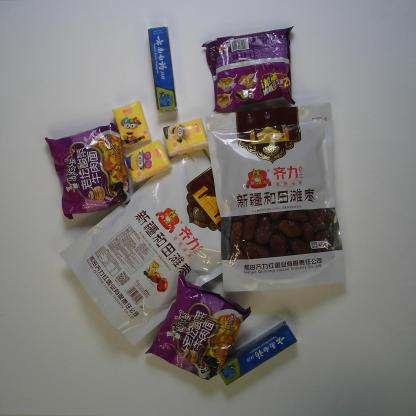Dried Food: (59, 148, 223, 347), (204, 101, 348, 293)
Instant Noodles: (144, 272, 252, 382), (44, 122, 131, 220), (201, 24, 296, 113)
Personal Hygiene: (218, 320, 298, 386), (147, 25, 178, 114)
Tissue: (124, 138, 174, 185), (111, 100, 152, 149), (162, 117, 209, 158)
